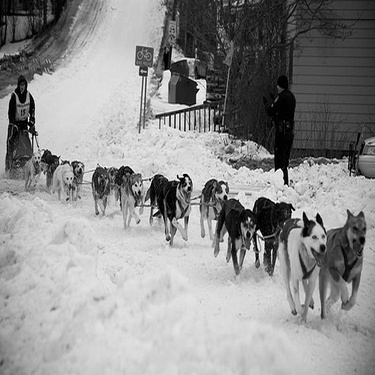dog: (258, 213, 330, 327), (318, 198, 368, 320), (211, 200, 277, 283), (247, 189, 300, 281), (198, 170, 249, 241), (164, 169, 195, 251), (147, 166, 173, 228), (47, 165, 81, 210), (86, 162, 112, 218), (18, 148, 44, 194), (116, 160, 138, 208), (128, 169, 143, 233), (37, 142, 55, 183), (106, 156, 122, 202), (74, 154, 88, 202), (49, 148, 64, 188), (61, 152, 76, 185)
